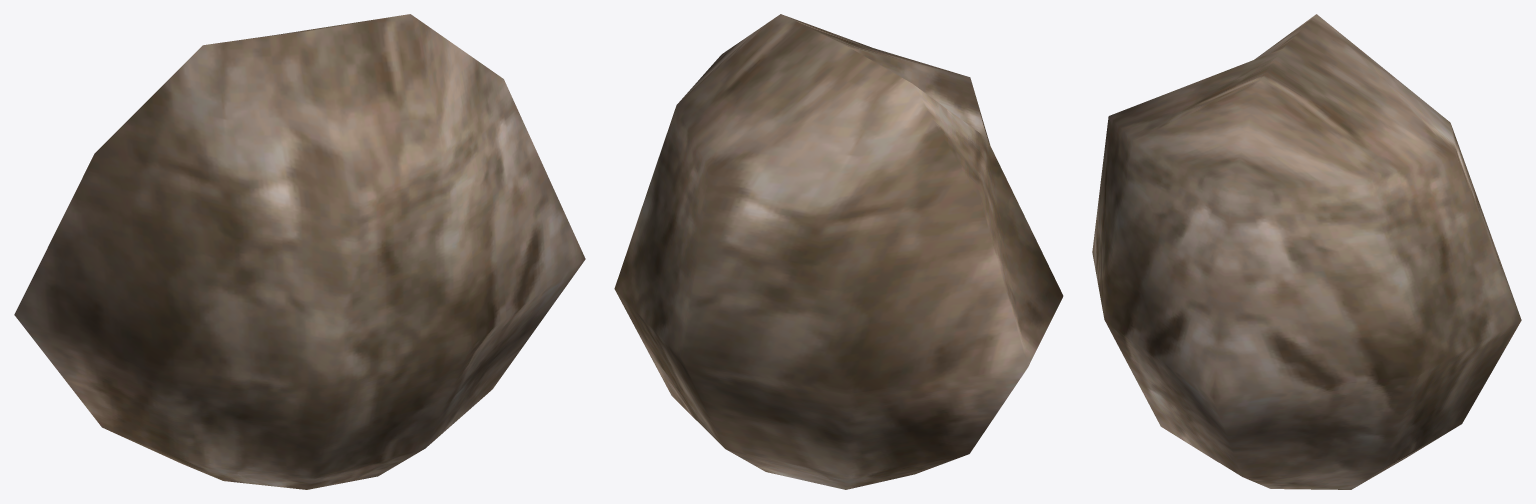
File: OVERHILL_A_01_ROCK101.fbx
3 views of the same model, side by side, from view 1: azimuth 30°, elevation 25°; view 2: azimuth 150°, elevation 25°; view 3: azimuth 270°, elevation 25° (orthographic). The views are drawn at different scales.
Visible parts, largest first — view 1: OVERHILL_A_01_ROCK101; view 2: OVERHILL_A_01_ROCK101; view 3: OVERHILL_A_01_ROCK101.
Boxes of the visible parts, x1,y1,x2,y2 form: OVERHILL_A_01_ROCK101: (14,14,585,489); OVERHILL_A_01_ROCK101: (614,14,1063,489); OVERHILL_A_01_ROCK101: (1092,14,1521,489).
Size of the model in its own units: 9314 by 7935 by 7668.
Materials: 1 (1 with a texture image).
